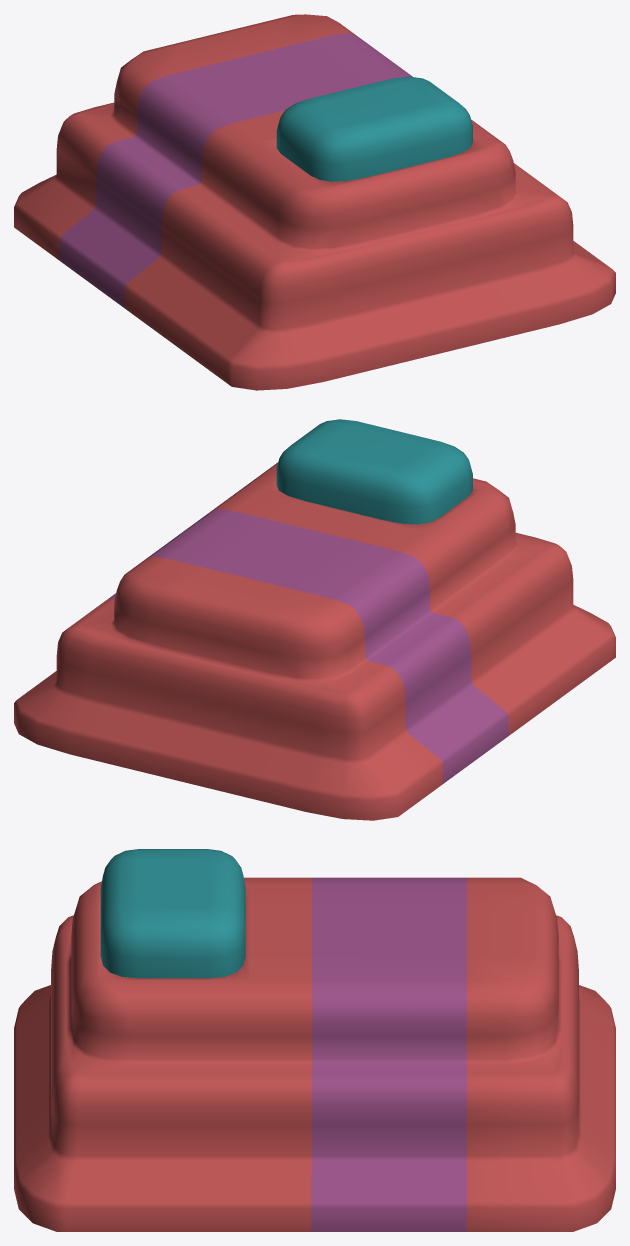
Rendered from sirena_2.fbx.
3 views of the same model, one above another, from view 1: azimuth 30°, elevation 25°; view 2: azimuth 150°, elevation 25°; view 3: azimuth 270°, elevation 25° (orthographic). The views are drawn at different scales.
Parts seen in each view (by area): view 1: sirena_002_LOD0, sirena_002_glass_LOD0; view 2: sirena_002_LOD0, sirena_002_glass_LOD0; view 3: sirena_002_LOD0, sirena_002_glass_LOD0.
Boxes of the visible parts, left/top/right/bottom form: sirena_002_LOD0: left=14, top=14, right=615, bottom=390; sirena_002_glass_LOD0: left=347, top=76, right=472, bottom=179; sirena_002_LOD0: left=14, top=419, right=615, bottom=820; sirena_002_glass_LOD0: left=276, top=419, right=384, bottom=519; sirena_002_LOD0: left=14, top=849, right=615, bottom=1231; sirena_002_glass_LOD0: left=100, top=907, right=245, bottom=978.
Size of what is drawn, in the model's own units: 11.53 by 5.73 by 13.19.
